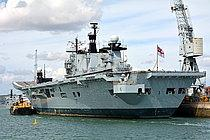MIL_Ship: (10, 20, 206, 117)
